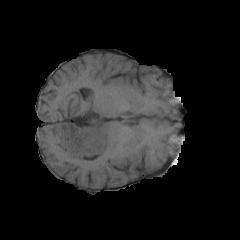glioma: (63, 100, 109, 161)
